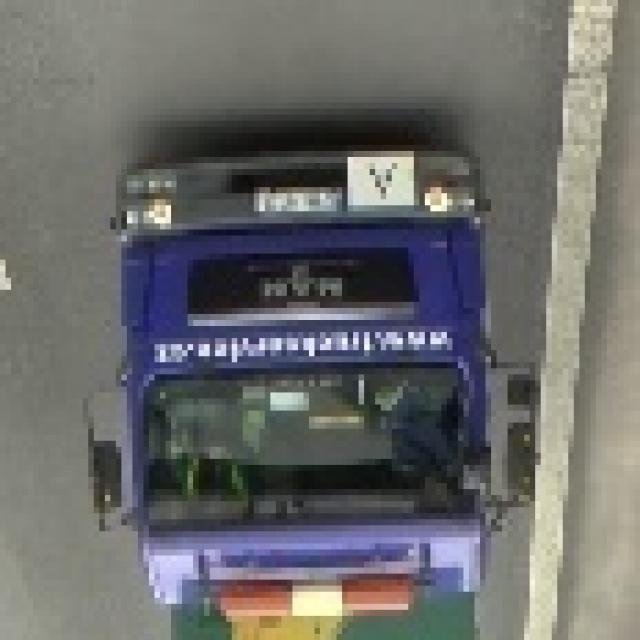truck: (82, 133, 536, 640)
